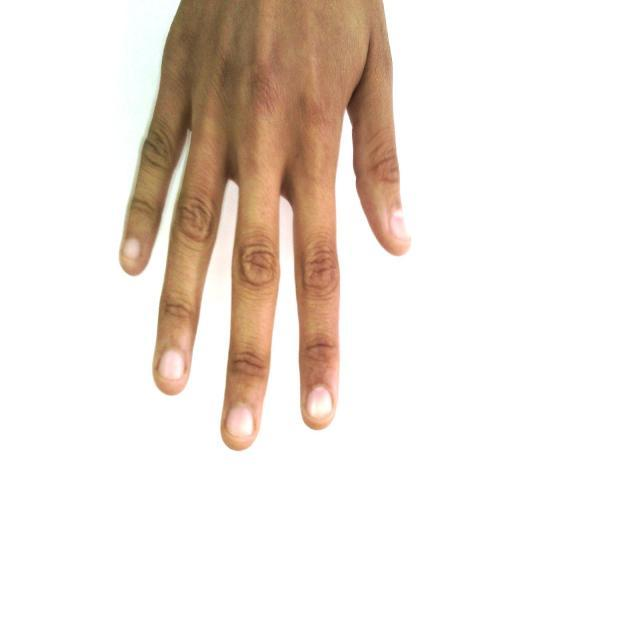Fingernail: (227, 405, 254, 437), (308, 387, 332, 418), (160, 350, 184, 380), (391, 209, 409, 240), (124, 240, 141, 260)
